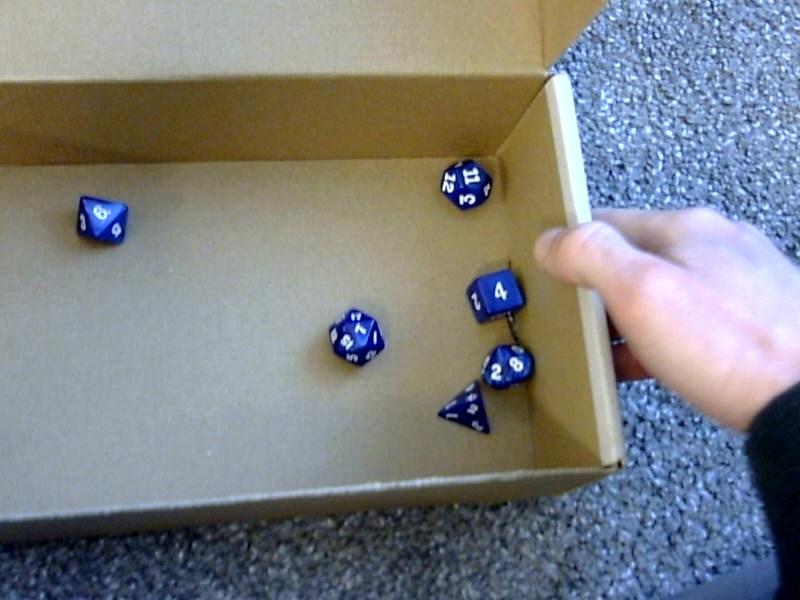d10 8: (480, 338, 536, 392)
d12 11: (434, 148, 496, 214)
d20 7: (324, 299, 388, 370)
d4 2: (433, 377, 493, 438)
d6 4: (464, 266, 528, 325)
d8 6: (71, 188, 131, 248)
